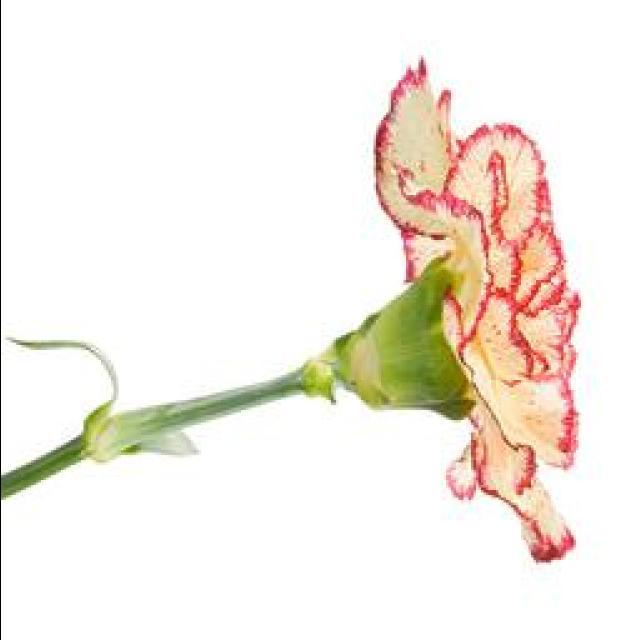carnation: (293, 48, 586, 572)
